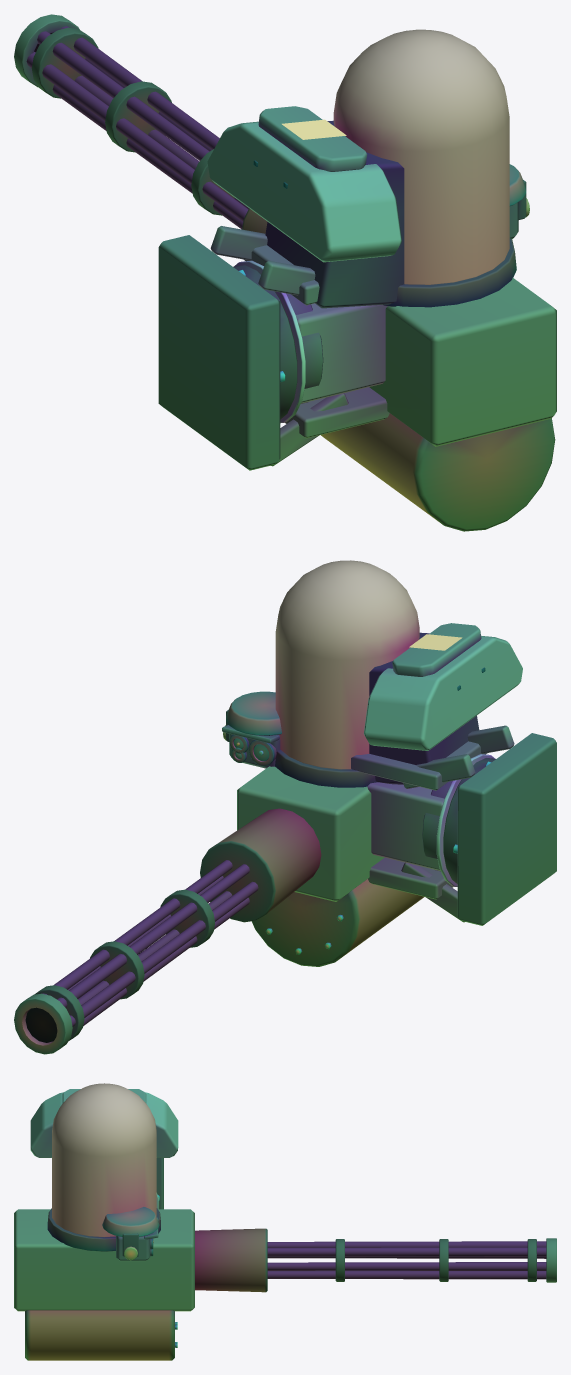
Rendered from arm_phalanx.glb.
The picture shows the model from 3 angles, top to bottom: view 1: azimuth 30°, elevation 25°; view 2: azimuth 150°, elevation 25°; view 3: azimuth 270°, elevation 25°; orthographic projection. The views are drawn at different scales.
Parts seen in each view (by area): view 1: Body__armor, Body__gunmetal, Body__armor_sub, Body__dark, Body__chrome, Body__decal; view 2: Body__gunmetal, Body__armor, Body__armor_sub, Body__dark, Body__chrome, Body__bore; view 3: Body__gunmetal, Body__armor, Body__armor_sub, Body__dark, Body__armor_dark.
Boxes of the visible parts, x1,y1,x2,y2 form: Body__armor: (207,29,509,403); Body__gunmetal: (14,14,555,531); Body__armor_sub: (210,106,556,466); Body__dark: (31,27,526,419); Body__chrome: (234,260,305,423); Body__decal: (282,119,346,139); Body__gunmetal: (14,691,556,1054); Body__armor: (275,560,522,870); Body__armor_sub: (237,623,514,922); Body__dark: (34,632,495,1040); Body__chrome: (266,754,495,954); Body__bore: (25,1007,57,1042); Body__gunmetal: (25,1158,556,1360); Body__armor: (30,1083,178,1236); Body__armor_sub: (14,1089,194,1311); Body__dark: (47,1208,536,1292); Body__armor_dark: (116,1236,150,1261).
Size of the model in its own units: 1.07 by 1.34 by 2.46.
